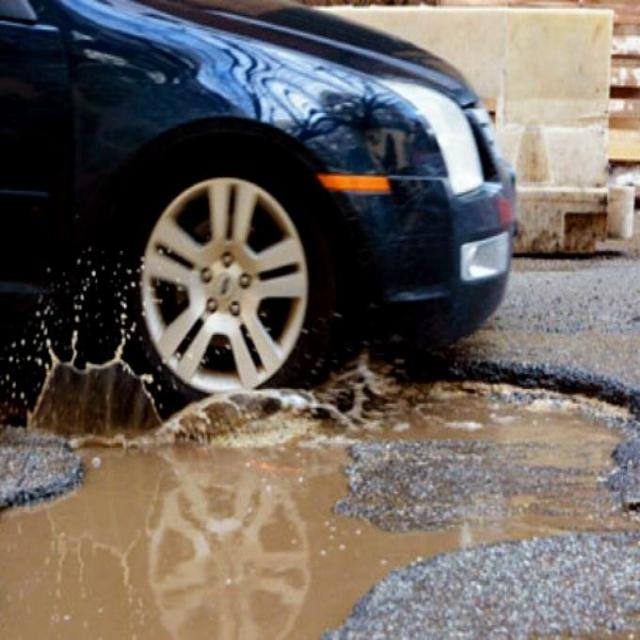Pothole: (1, 349, 627, 627)
